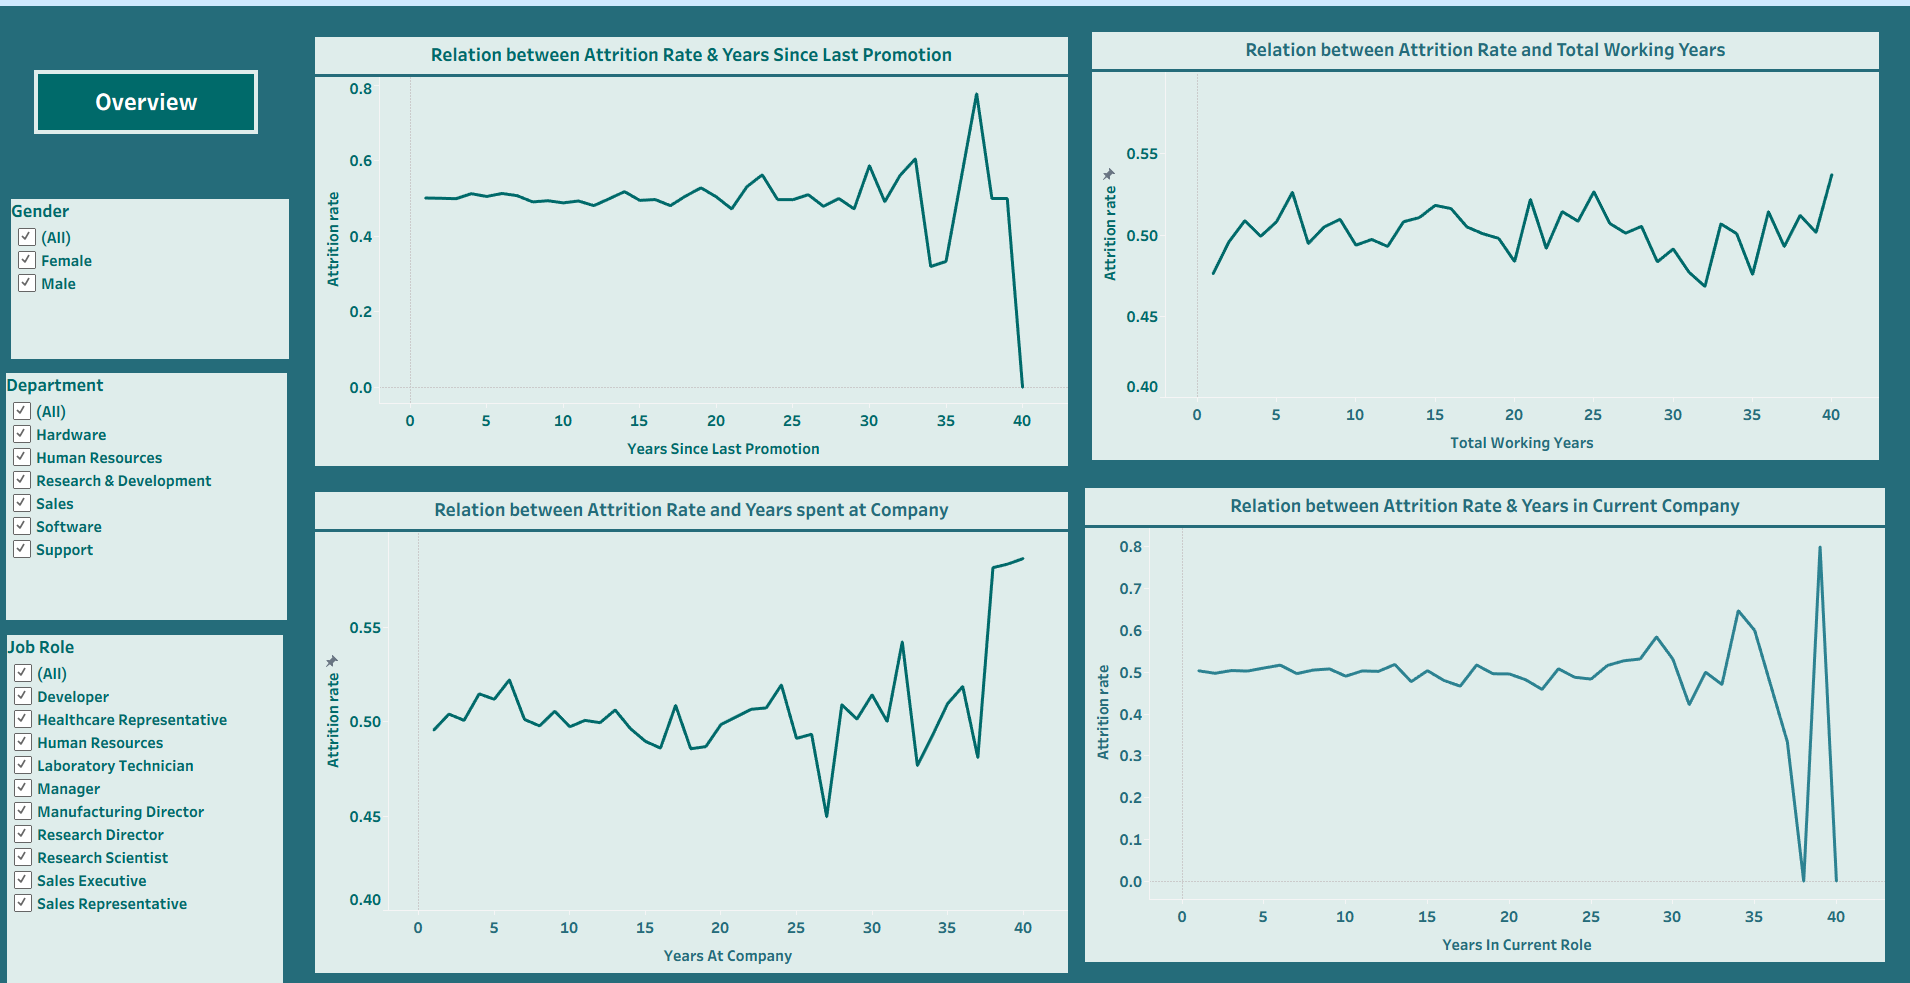

This screenshot's page, from the dashboard's own definition file:
{"tool":"tableau","page":{"name":"Attrition Rate Years Wise","canvas":[1000,1000],"units":"permille","ordinal":1},"visuals":[{"type":"worksheet","title":"attrition ratetotal working years ","mark":"Automatic","rows":["Calculation_906067989235355654"],"cols":["TotalWorkingYears"],"box":[573.6,26.2,410,430.7]},{"type":"worksheet","title":"attrition rate years since last promo","mark":"Automatic","rows":["Calculation_906067989235355654"],"cols":["YearsSinceLastPromotion"],"box":[168.5,31.2,392.3,432]},{"type":"dashboard-object","box":[22.5,64.9,116.8,64.9]},{"type":"filter","title":"attrition rate years in current comapny","param":"[federated.1677jod14x5h8m1evh0q40g2wzau].[none:Gender:nk]","box":[10.3,194.8,144.8,161.1]},{"type":"filter","title":"attrition rate years in current comapny","param":"[federated.1677jod14x5h8m1evh0q40g2wzau].[none:Department:nk]","box":[7.9,369.5,146.6,248.4]},{"type":"worksheet","title":"attrition rate years in current comapny","mark":"Automatic","rows":["Calculation_906067989235355654"],"cols":["YearsInCurrentRole"],"box":[570,485.6,416.7,490.6]},{"type":"worksheet","title":"attrition rate years at company ","mark":"Line","rows":["Calculation_906067989235355654"],"cols":["YearsAtCompany"],"box":[168.5,489.4,392.3,484.4]},{"type":"filter","title":"attrition rate years in current comapny","param":"[federated.1677jod14x5h8m1evh0q40g2wzau].[none:JobRole:nk]","box":[8.5,633,143.6,350.8]}]}

Visuals, with their boxes on the dashboard's canvas, which has no fixed pixel size, in thousandths of its width and height (x1, y1, x2, y2). These are canvas units, not pixel positions in the 1910x983 screenshot, which may show the page scaled, cropped or inside an application window:
"attrition ratetotal working years " worksheet: Rect(574, 26, 984, 457)
"attrition rate years since last promo" worksheet: Rect(168, 31, 561, 463)
dashboard-object: Rect(22, 65, 139, 130)
"attrition rate years in current comapny" filter: Rect(10, 195, 155, 356)
"attrition rate years in current comapny" filter: Rect(8, 370, 154, 618)
"attrition rate years in current comapny" worksheet: Rect(570, 486, 987, 976)
"attrition rate years at company " worksheet (Line marks): Rect(168, 489, 561, 974)
"attrition rate years in current comapny" filter: Rect(8, 633, 152, 984)
